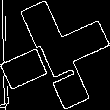L_NW: (31, 25, 79, 85)
